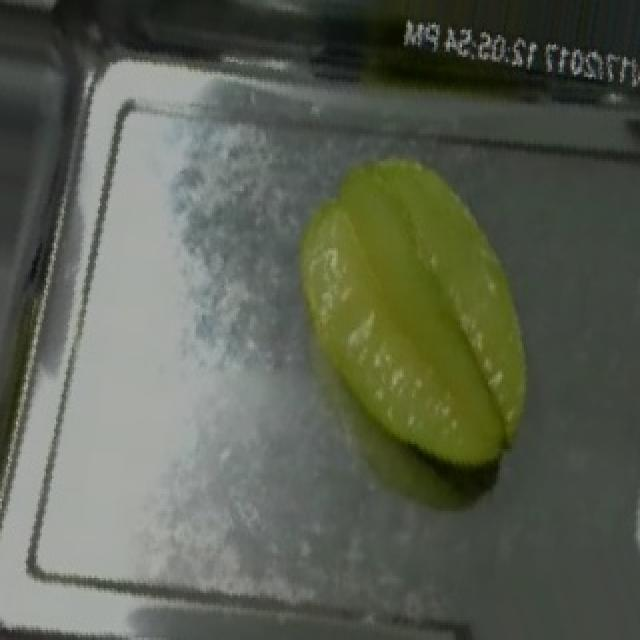fruit: (256, 126, 594, 498)
